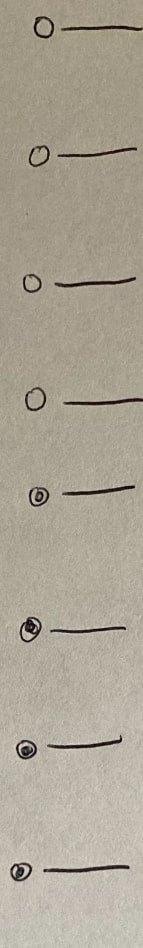radio-button: (15, 609, 132, 650), (9, 850, 133, 887), (23, 475, 140, 513), (23, 137, 139, 174), (13, 730, 129, 766), (17, 264, 139, 297), (21, 382, 136, 417), (27, 11, 137, 45)
